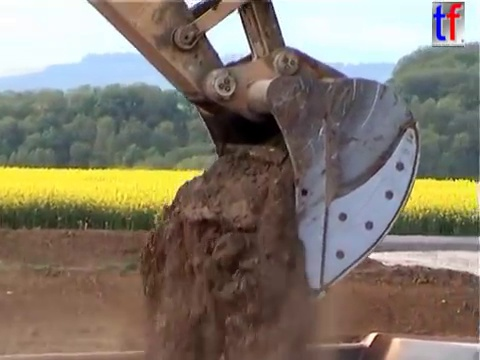excavator: (82, 1, 425, 308)
truck: (1, 329, 480, 360)
